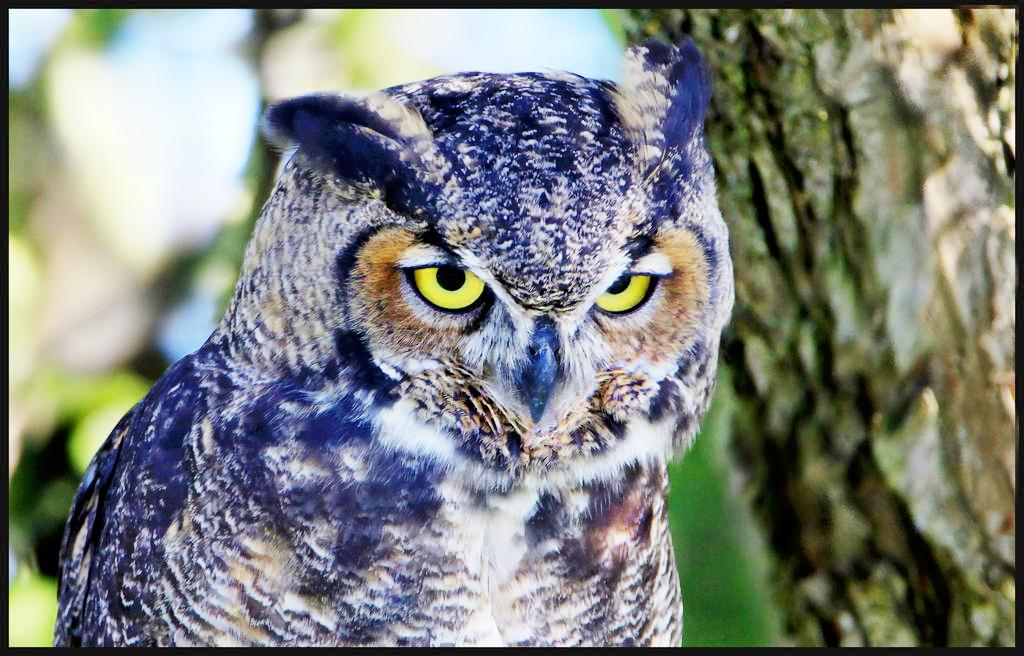Owl: (50, 41, 737, 656)
